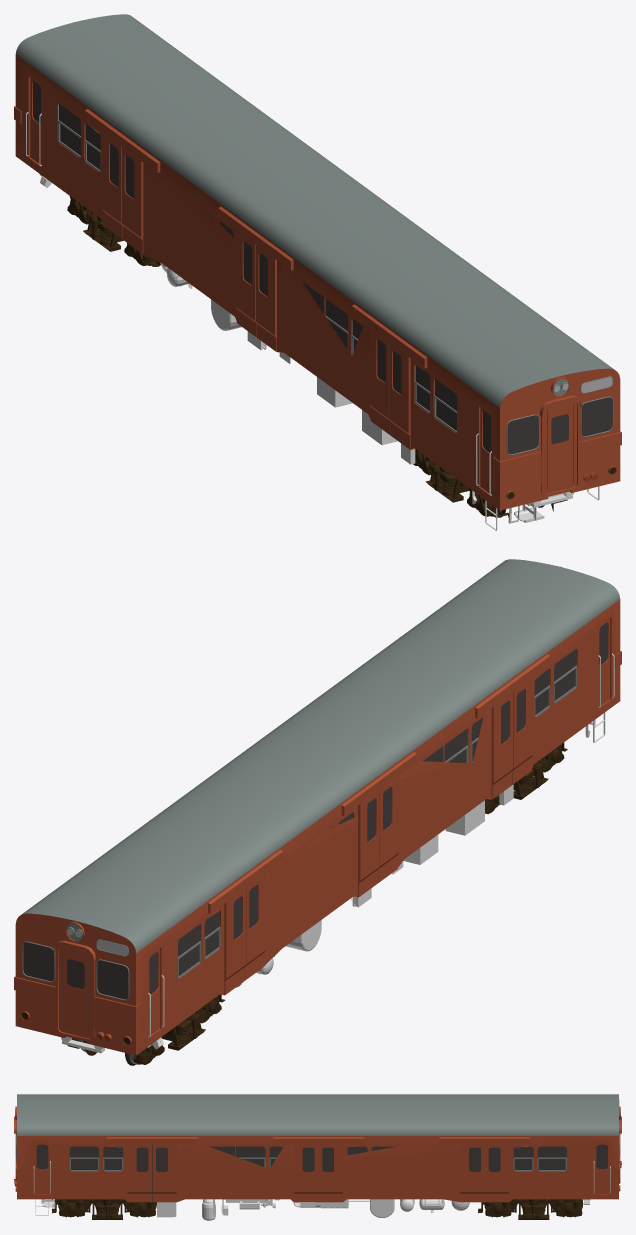
Rendered from kiha30.fbx.
3 views of the same model, one above another, from view 1: azimuth 30°, elevation 25°; view 2: azimuth 150°, elevation 25°; view 3: azimuth 270°, elevation 25° (orthographic). The views are drawn at different scales.
Parts seen in each view (by area): view 1: Cube, under, bogie_hipoly, bogie_hipoly.002; view 2: Cube, under, bogie_hipoly.002, bogie_hipoly; view 3: Cube, under, bogie_hipoly, bogie_hipoly.002.
Part boxes in pixels (bbox=[...]): Cube: bbox=[14, 14, 621, 510]; under: bbox=[26, 112, 599, 530]; bogie_hipoly: bbox=[413, 449, 567, 517]; bogie_hipoly.002: bbox=[67, 196, 160, 266]; Cube: bbox=[14, 559, 621, 1055]; under: bbox=[61, 653, 614, 1053]; bogie_hipoly.002: bbox=[67, 994, 225, 1065]; bogie_hipoly: bbox=[485, 742, 567, 814]; Cube: bbox=[14, 1094, 621, 1202]; under: bbox=[33, 1161, 610, 1220]; bogie_hipoly: bbox=[52, 1199, 156, 1219]; bogie_hipoly.002: bbox=[478, 1199, 583, 1219].
Bounding box in the file's own units: 293 × 372 × 1970.
